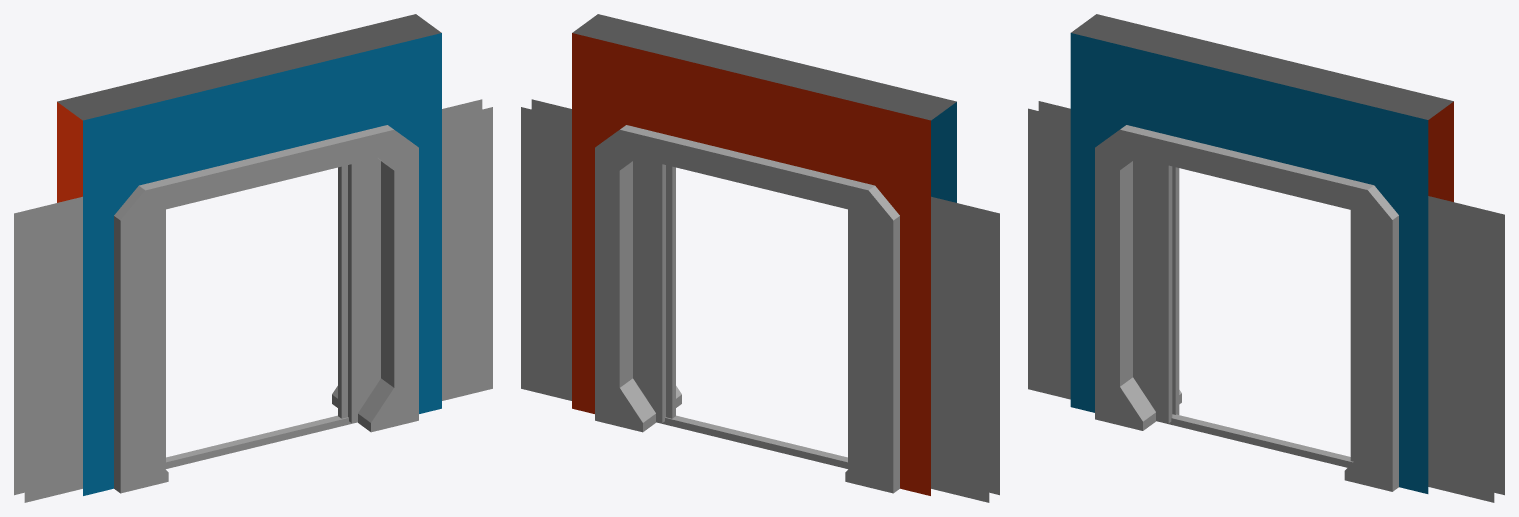
Rendered from Generic_Wall_door.fbx.
3 renders of one model, left to right at view 1: azimuth 30°, elevation 25°; view 2: azimuth 150°, elevation 25°; view 3: azimuth 330°, elevation 25°, orthographic.
Parts seen in each view (by area): view 1: Wall_Bigger_Door_4x4, Fixtures:Frame, Fixtures:R_Slide, Fixtures:L_Slide; view 2: Wall_Bigger_Door_4x4, Fixtures:Frame, Fixtures:R_Slide, Fixtures:L_Slide; view 3: Wall_Bigger_Door_4x4, Fixtures:Frame, Fixtures:R_Slide, Fixtures:L_Slide.
Boxes of the visible parts, x1=… form: Wall_Bigger_Door_4x4: x1=57, y1=14, x2=441, y2=495; Fixtures:Frame: x1=114, y1=125, x2=418, y2=493; Fixtures:R_Slide: x1=338, y1=99, x2=492, y2=422; Fixtures:L_Slide: x1=14, y1=196, x2=165, y2=502; Wall_Bigger_Door_4x4: x1=572, y1=14, x2=956, y2=495; Fixtures:Frame: x1=595, y1=125, x2=899, y2=493; Fixtures:R_Slide: x1=521, y1=99, x2=675, y2=422; Fixtures:L_Slide: x1=848, y1=196, x2=999, y2=502; Wall_Bigger_Door_4x4: x1=1070, y1=14, x2=1453, y2=493; Fixtures:Frame: x1=1095, y1=125, x2=1398, y2=491; Fixtures:R_Slide: x1=1350, y1=196, x2=1504, y2=502; Fixtures:L_Slide: x1=1028, y1=101, x2=1179, y2=423.
Bounding box in the file's own units: 5.22 × 4.04 × 0.7538.
